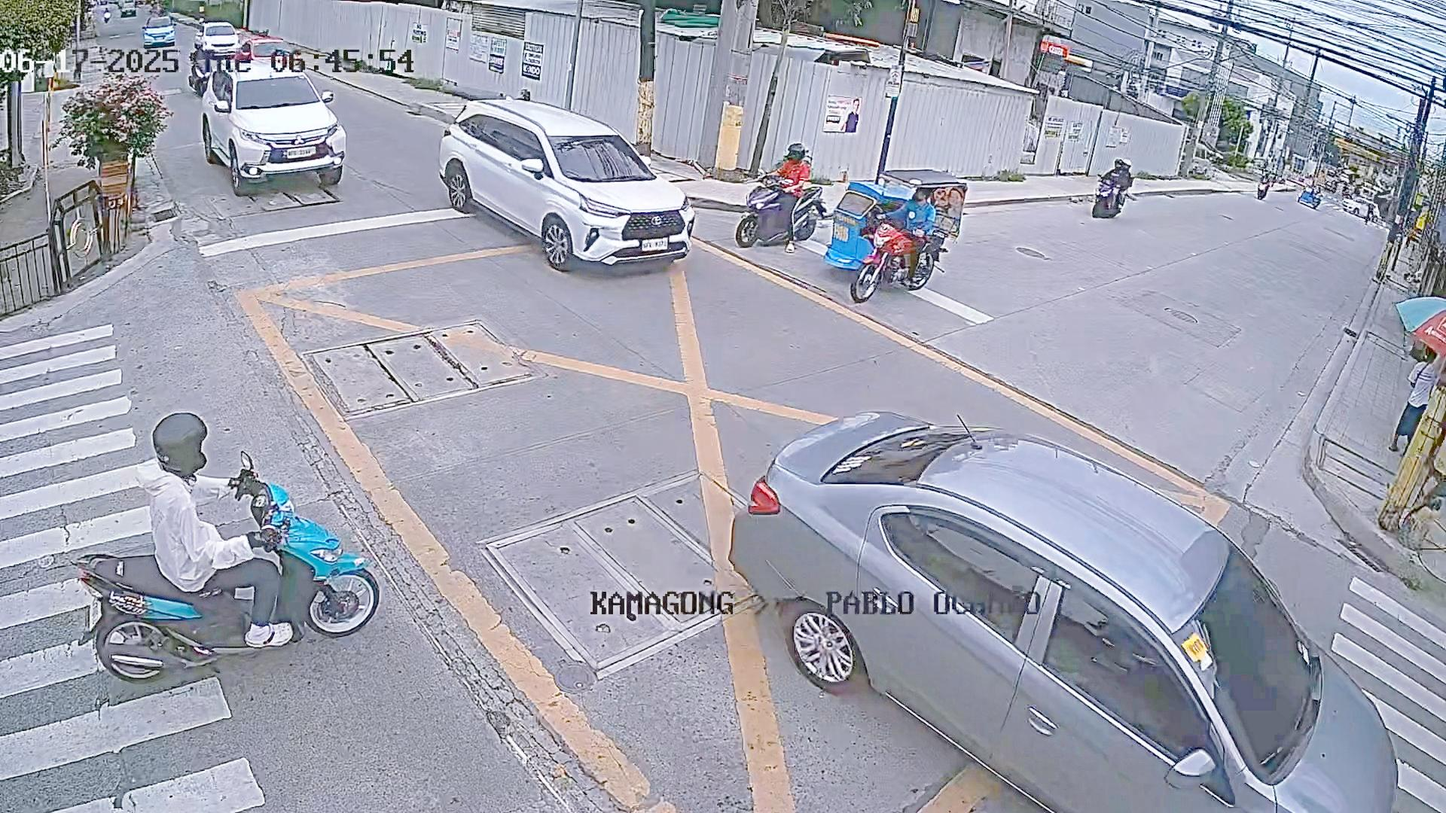Car: (685, 385, 1309, 813), (444, 61, 688, 303), (183, 45, 393, 219)
Motor: (47, 381, 395, 660), (729, 135, 815, 279), (845, 225, 958, 309), (1084, 167, 1160, 243)
